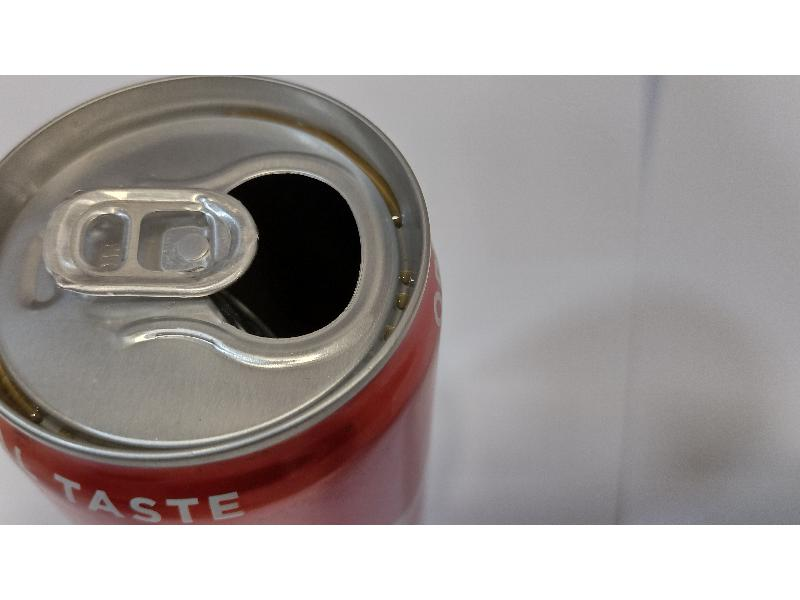can: (2, 75, 450, 528)
